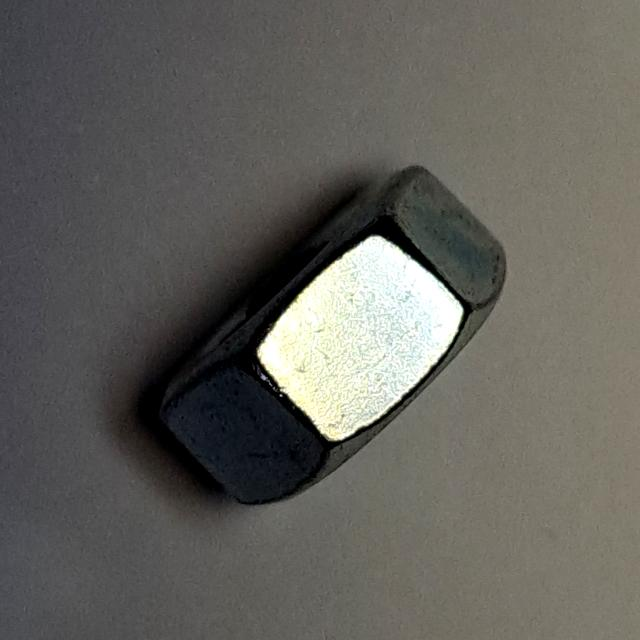Side_Excellent: (117, 147, 516, 519)
